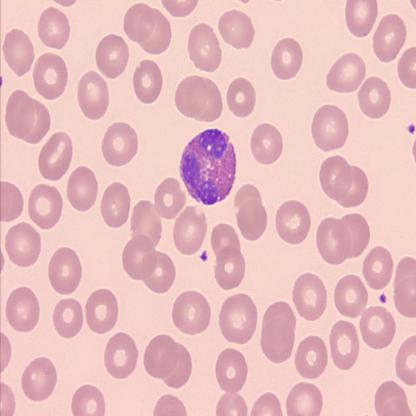Eosinophil: (179, 127, 238, 209)
